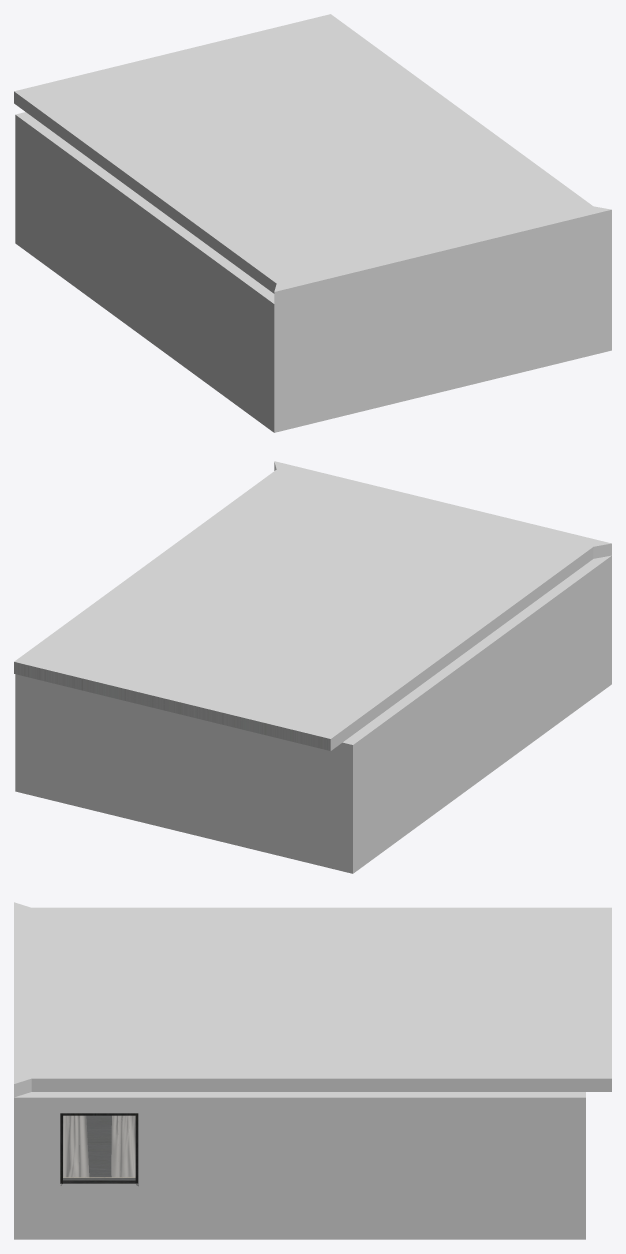
The model's file is JapanRoom.glb.
3 renders of one model, top to bottom at view 1: azimuth 30°, elevation 25°; view 2: azimuth 150°, elevation 25°; view 3: azimuth 270°, elevation 25°, orthographic. The views are drawn at different scales.
Visible parts, largest first — view 1: Cube; view 2: Cube; view 3: Cube, Glass, Curtain.
Boxes of the visible parts, <box> form: Cube: <box>14,14,611,432</box>; Cube: <box>14,461,611,873</box>; Cube: <box>14,902,611,1239</box>; Glass: <box>63,1116,135,1180</box>; Curtain: <box>63,1115,135,1177</box>.
Size of the model in its own units: 9.65 by 3.85 by 13.4.
Materials: 30 (26 with a texture image).
